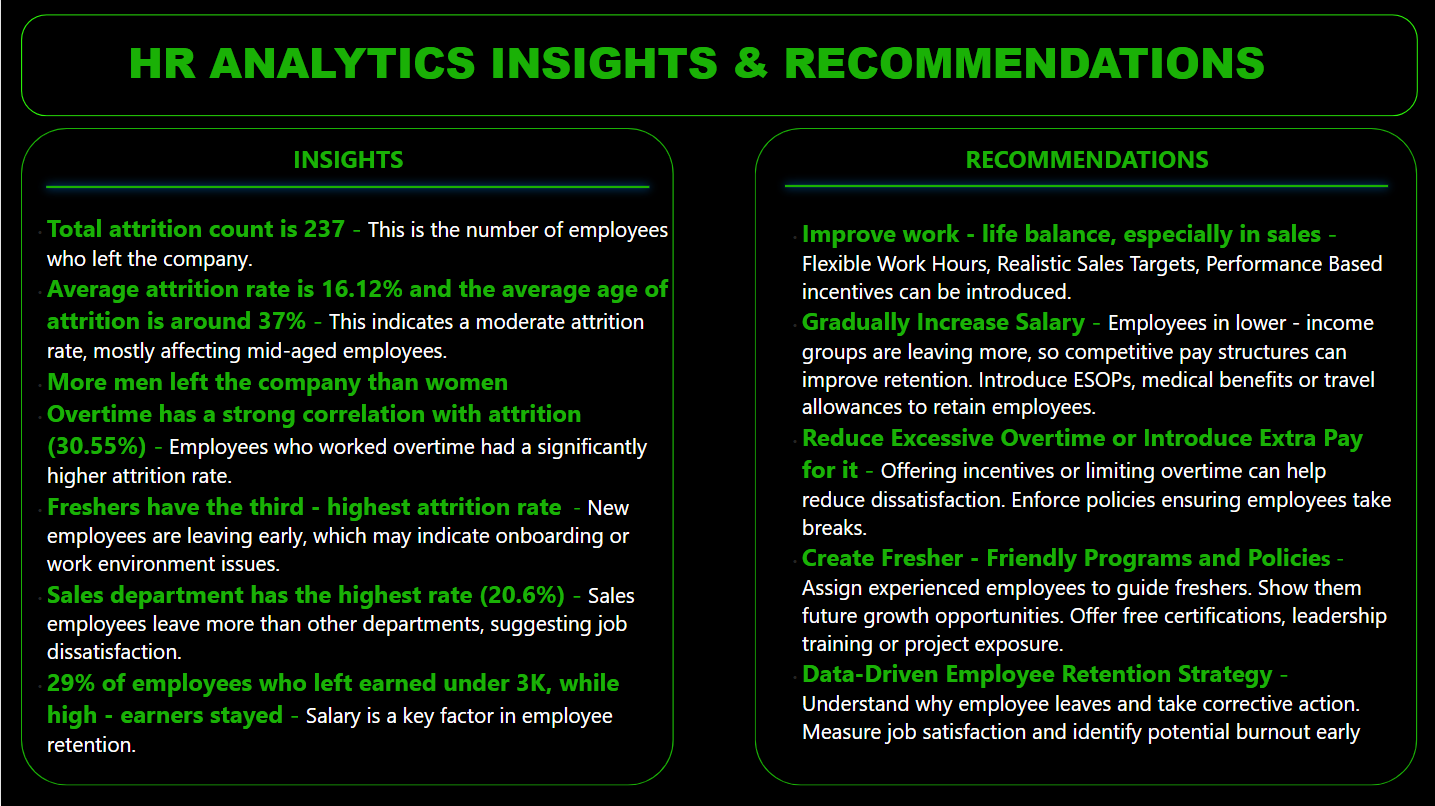

What the dashboard file says about the page in this screenshot:
{"tool":"powerbi","page":{"name":"Insights &  Recommedationns","canvas":[1280,720],"ordinal":1},"visuals":[{"type":"shape","box":[17.3,14.4,1243.7,90.9],"z":0},{"type":"textbox","box":[108.2,26,1064.8,79.4],"z":1},{"type":"shape","box":[17.3,115.4,581.4,585.8],"z":2},{"type":"shape","box":[670.9,115.4,590.1,585.8],"z":3},{"type":"shape","box":[31.7,150,554,36.1],"z":4},{"type":"shape","box":[689.6,145.7,554,43.3],"z":5},{"type":"textbox","box":[158.7,124.1,300.1,49.1],"z":6},{"type":"textbox","box":[816.6,124.1,300.1,49.1],"z":7},{"type":"textbox","box":[17.3,184.7,581.4,516.5],"z":8},{"type":"textbox","box":[689.6,189,554,497.8],"z":9}]}

Visuals, with their boxes in screenshot pixels (x1, y1, x2, y2), scaled from the page's 1280x720 canvas onto the 1435x806 screenshot:
shape: Rect(19, 16, 1414, 118)
textbox: Rect(121, 29, 1315, 118)
shape: Rect(19, 129, 671, 785)
shape: Rect(752, 129, 1414, 785)
shape: Rect(36, 168, 657, 208)
shape: Rect(773, 163, 1394, 212)
textbox: Rect(178, 139, 514, 194)
textbox: Rect(915, 139, 1252, 194)
textbox: Rect(19, 207, 671, 785)
textbox: Rect(773, 212, 1394, 769)
